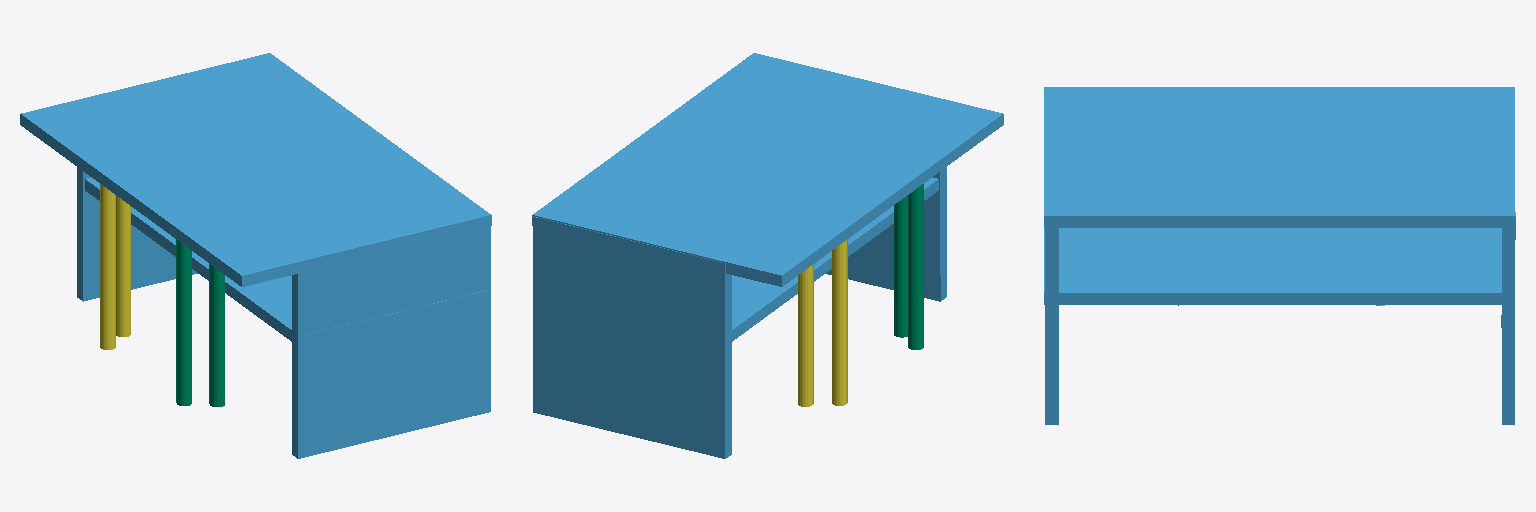
robot.urdf — table_bars:
<?xml version="1.0" ?>
<robot name="table_bars">
  <link name="root"></link>
  <link name="shelves">
    <visual>
      <origin rpy="0 0 0" xyz="0 0 0" />
      <geometry>
        <mesh filename="package://motion_bench_maker/configs/scenes/table_bars/meshes/shelves.stl" />
      </geometry>
    </visual>
    <collision>
      <origin rpy="0 0 0" xyz="0 0 0" />
      <geometry>
        <mesh filename="package://motion_bench_maker/configs/scenes/table_bars/meshes/shelves.stl" />
      </geometry>
    </collision>
  </link>
  <link name="right_bars">
    <visual>
      <origin rpy="0 0 0" xyz="0 0 0" />
      <geometry>
        <mesh filename="package://motion_bench_maker/configs/scenes/table_bars/meshes/right_bars.stl" />
      </geometry>
    </visual>
    <collision>
      <origin rpy="0 0 0" xyz="0 0 0" />
      <geometry>
        <mesh filename="package://motion_bench_maker/configs/scenes/table_bars/meshes/right_bars.stl" />
      </geometry>
    </collision>
  </link>
  <joint name="right_bars_joint" type="prismatic">
    <origin rpy="0 0 0" xyz="0 0 0" />
    <parent link="shelves" />
    <child link="right_bars" />
    <axis xyz="0 1 0" />
  <limit effort="0.32" lower="-0.35" upper="0" velocity="1.57" />
  </joint>
  <link name="left_bars">
    <visual>
      <origin rpy="0 0 0" xyz="0 0 0" />
      <geometry>
        <mesh filename="package://motion_bench_maker/configs/scenes/table_bars/meshes/left_bars.stl" />
      </geometry>
    </visual>
    <collision>
      <origin rpy="0 0 0" xyz="0 0 0" />
      <geometry>
        <mesh filename="package://motion_bench_maker/configs/scenes/table_bars/meshes/left_bars.stl" />
      </geometry>
    </collision>
  </link>
  <joint name="left_bars_joint" type="prismatic">
    <origin rpy="0 0 0" xyz="0 0 0" />
    <parent link="shelves" />
    <child link="left_bars" />
    <axis xyz="0 1 0" />
  <limit effort="0.32" lower="0" upper="0.35" velocity="1.57" />
  </joint>
  <joint name="shelves_connector" type="fixed">
    <origin rpy="0 0 0" xyz="0 0 0" />
    <parent link="root" />
    <child link="shelves" />
  </joint>
</robot>

--- Render facts (derived) ---
Views: 3 orthographic renders of the robot side by side, from view 1: azimuth 30°, elevation 25°; view 2: azimuth 150°, elevation 25°; view 3: azimuth 270°, elevation 25°.
Robot: table_bars — 4 links, 3 joints (2 prismatic, 1 fixed); root link root; default pose: every joint at zero.
Visible links, largest first — view 1: shelves, right_bars, left_bars; view 2: shelves, left_bars, right_bars; view 3: shelves.
Link boxes in pixels (<box>): shelves: <box>20,53,491,458</box>; right_bars: <box>176,239,224,406</box>; left_bars: <box>100,184,130,349</box>; shelves: <box>532,53,1003,458</box>; left_bars: <box>798,239,847,406</box>; right_bars: <box>894,184,923,349</box>; shelves: <box>1044,87,1515,424</box>.
Size in the robot's own frame: 1.3 by 2 by 0.9823 metres.
3 mesh visuals loaded from 3 distinct referenced files (3 binary STL).